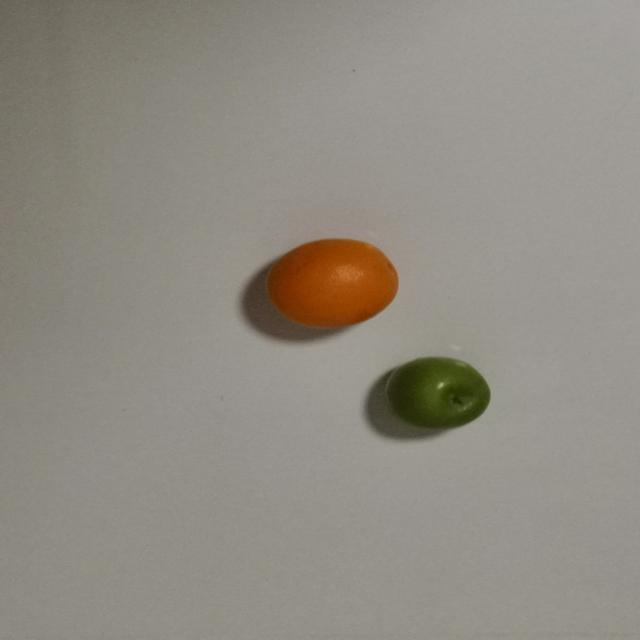Apple: (384, 353, 492, 427)
Orange: (265, 235, 410, 327)
